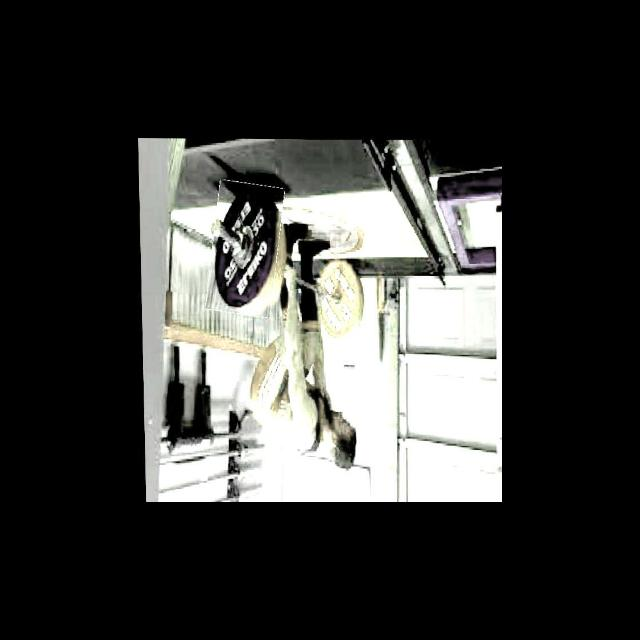barbell: (206, 180, 283, 316)
